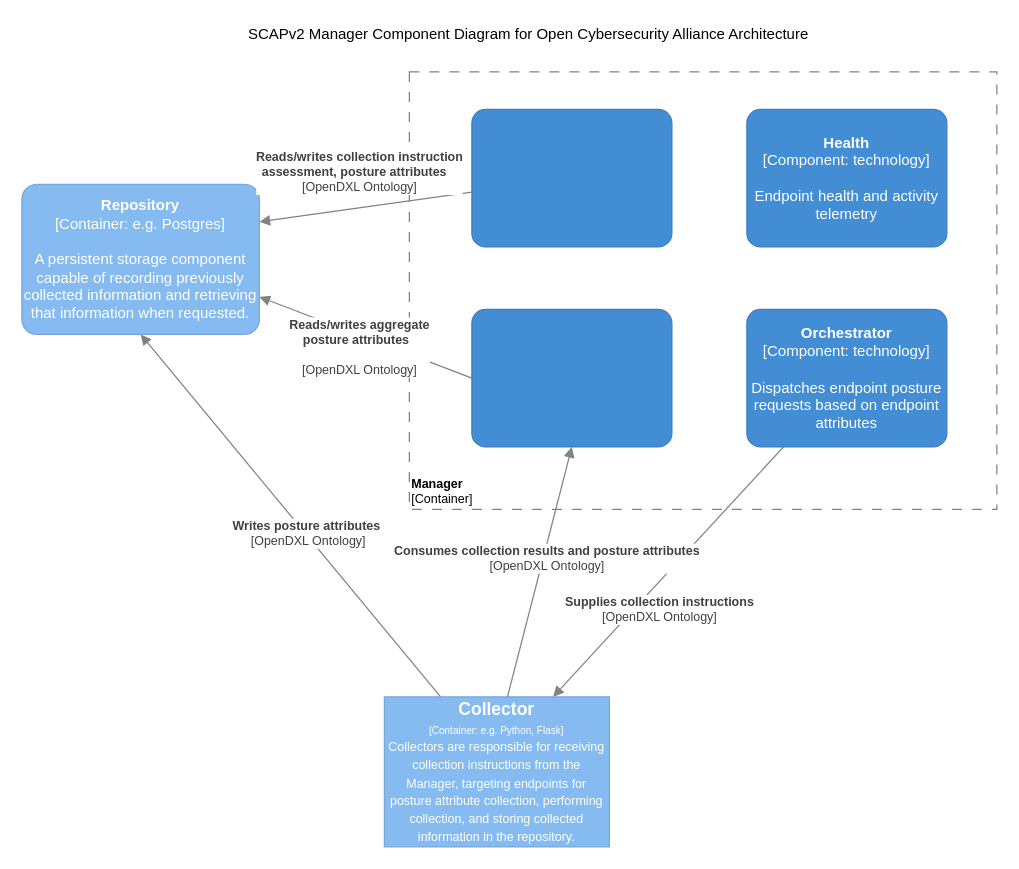
The diagram is 1019 pixels wide and 869 high, and some of its shapes have lost their labels. The shapes that lost their labels are listed below. From the top down, each one's centre as x and y in pixels, then its label:
At (x=571, y=177): "Accessor [Component: technology] Informs consumers of endpoint postures".
At (x=571, y=377): "Aggregator [Component: technology] Aggregates endpoint postures".
